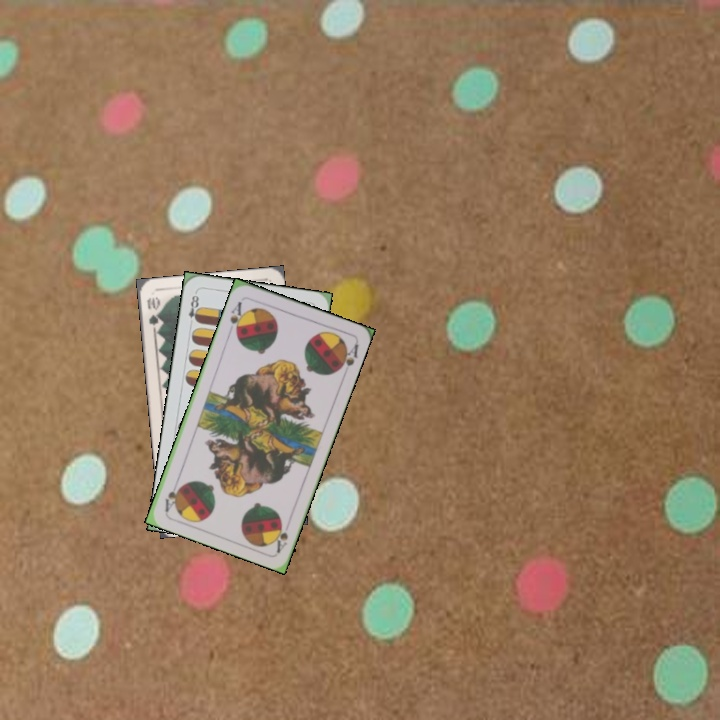E8: (184, 289, 203, 329)
G10: (143, 293, 162, 333)
SA: (226, 297, 247, 337), (270, 517, 291, 555)
